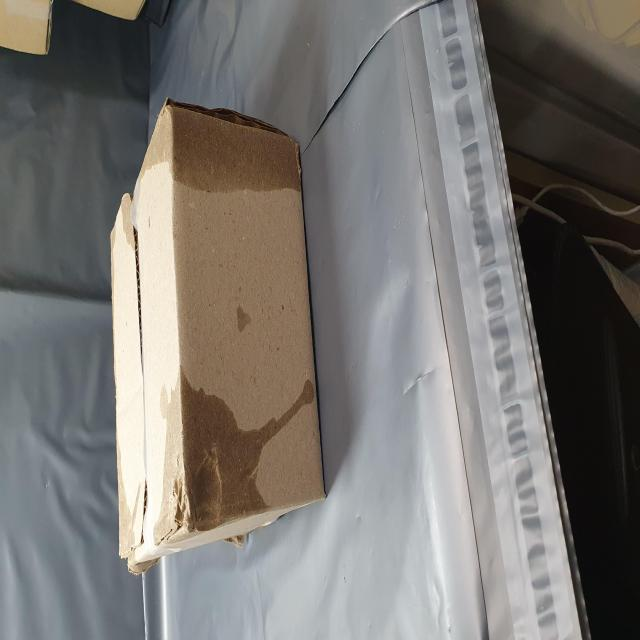wet: (45, 199, 156, 472), (247, 244, 304, 557)
